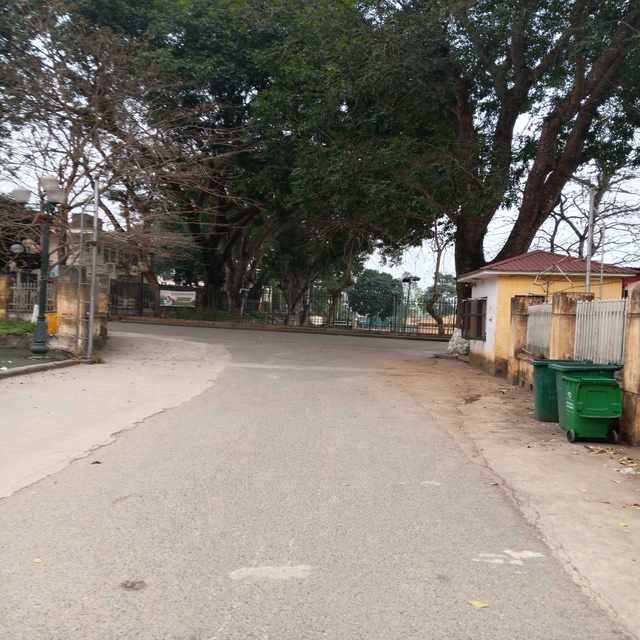thungrac: (554, 355, 616, 447), (531, 356, 564, 422)
